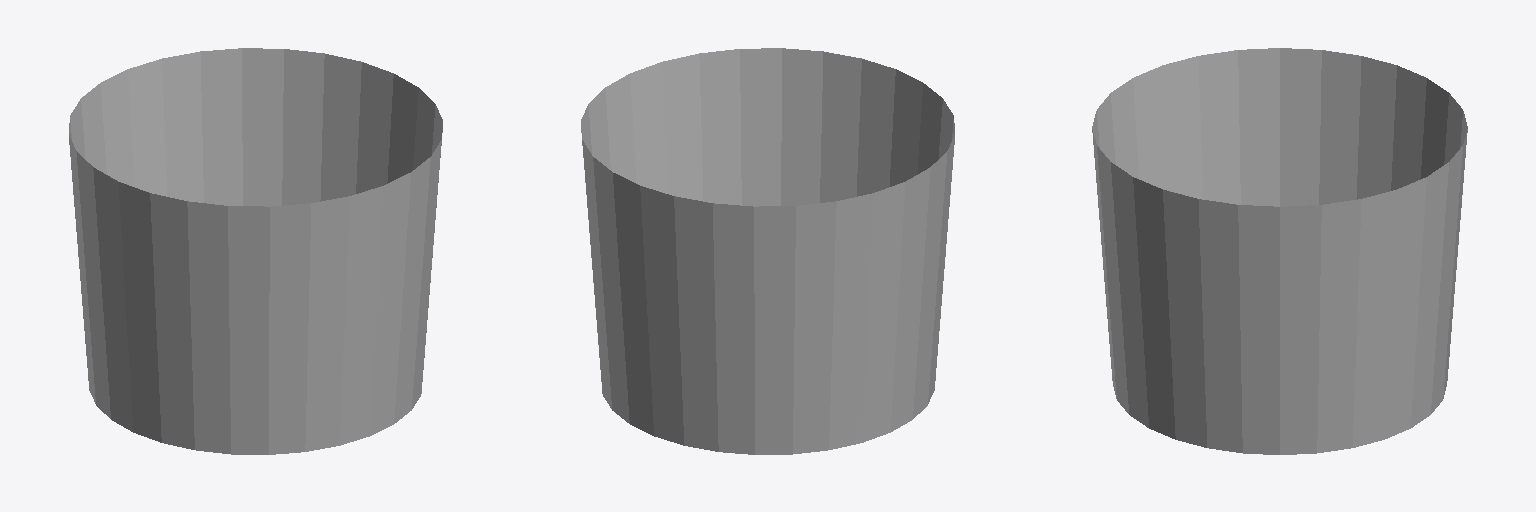
Rendered from AirGlassContact.obj.
3 views of the same model, side by side, from view 1: azimuth 30°, elevation 25°; view 2: azimuth 150°, elevation 25°; view 3: azimuth 270°, elevation 25° (orthographic).
Visible parts, largest first — view 1: Contatto_aria_vetro_AIR__outline; view 2: Contatto_aria_vetro_AIR__outline; view 3: Contatto_aria_vetro_AIR__outline.
Boxes of the visible parts, x1=… form: Contatto_aria_vetro_AIR__outline: x1=69, y1=48, x2=442, y2=454; Contatto_aria_vetro_AIR__outline: x1=581, y1=48, x2=954, y2=454; Contatto_aria_vetro_AIR__outline: x1=1092, y1=48, x2=1467, y2=454.
Size of the model in its own units: 2.24 by 1.69 by 2.24.